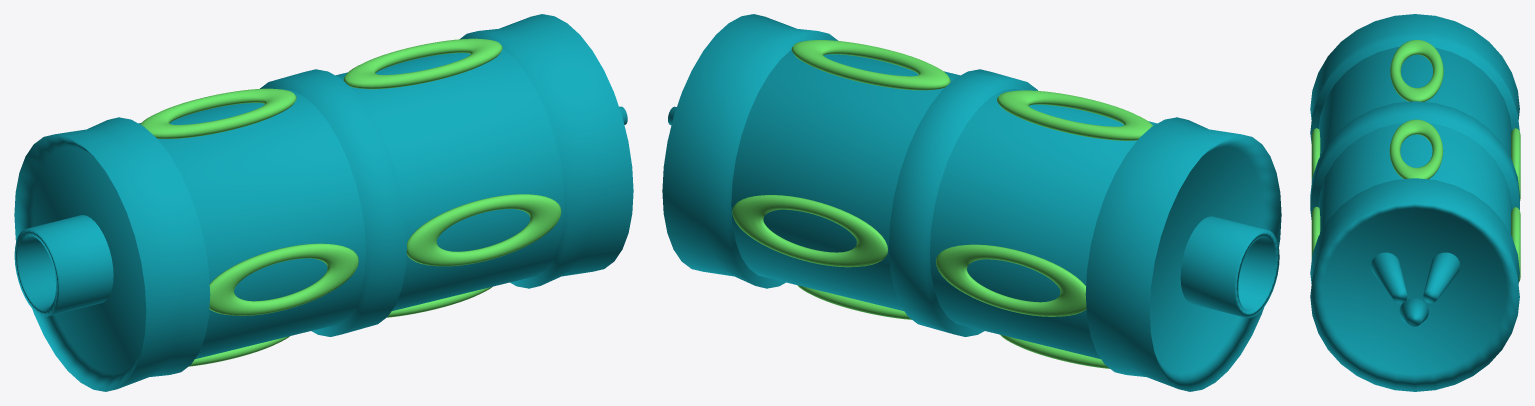
Rendered from spaceship part.fbx.
3 views of the same model, side by side, from view 1: azimuth 30°, elevation 25°; view 2: azimuth 150°, elevation 25°; view 3: azimuth 270°, elevation 25° (orthographic). The views are drawn at different scales.
Visible parts, largest first — view 1: Cylinder, Torus.007, Torus.006, Torus, Torus.001, Torus.003, Torus.002; view 2: Cylinder, Torus.004, Torus.005, Torus, Torus.001, Torus.003, Torus.002; view 3: Cylinder, Torus.001, Torus, Torus.005, Torus.004, Torus.006, Torus.007.
Part boxes in pixels (bbox=[...]): Cylinder: bbox=[14, 14, 633, 391]; Torus.007: bbox=[406, 194, 561, 266]; Torus.006: bbox=[209, 243, 358, 315]; Torus: bbox=[343, 38, 502, 89]; Torus.001: bbox=[140, 88, 296, 138]; Torus.003: bbox=[387, 286, 492, 317]; Torus.002: bbox=[189, 336, 289, 366]; Cylinder: bbox=[662, 14, 1281, 391]; Torus.004: bbox=[732, 195, 887, 267]; Torus.005: bbox=[936, 244, 1086, 316]; Torus: bbox=[791, 40, 950, 90]; Torus.001: bbox=[997, 90, 1152, 140]; Torus.003: bbox=[797, 285, 911, 319]; Torus.002: bbox=[1000, 334, 1109, 368]; Cylinder: bbox=[1310, 14, 1519, 391]; Torus.001: bbox=[1390, 40, 1443, 101]; Torus: bbox=[1389, 119, 1443, 179]; Torus.005: bbox=[1511, 128, 1520, 200]; Torus.004: bbox=[1511, 207, 1520, 281]; Torus.006: bbox=[1311, 128, 1320, 181]; Torus.007: bbox=[1311, 206, 1320, 258].
Size of the model in its own units: 64.44 by 25.74 by 25.65.
